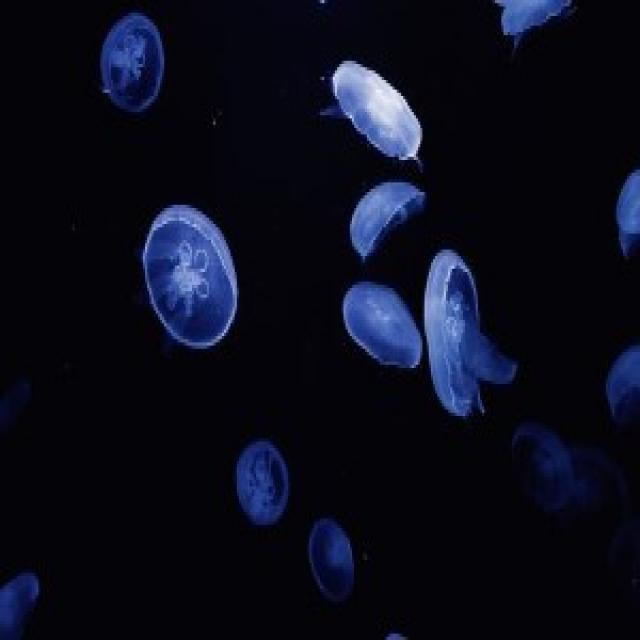Jellyfish: (132, 206, 242, 352), (321, 56, 441, 168), (426, 248, 492, 435), (81, 0, 172, 124), (342, 278, 420, 379), (504, 416, 574, 520), (228, 441, 303, 530), (347, 182, 424, 265), (304, 522, 364, 603)
